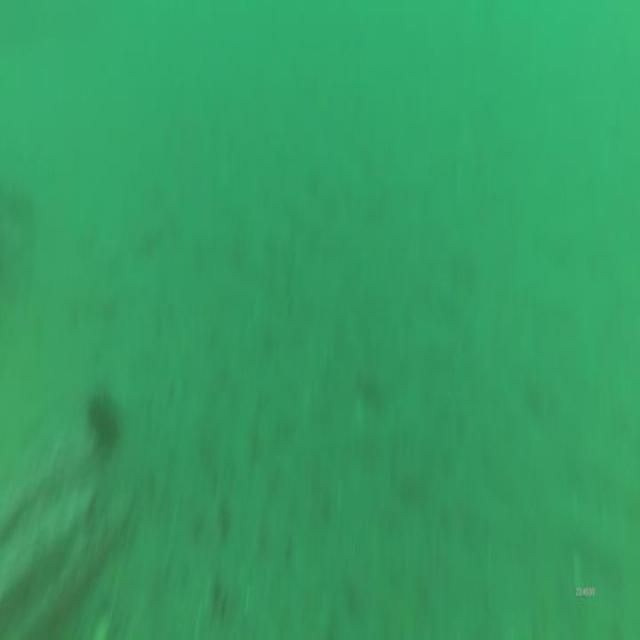echinus: (79, 381, 125, 460)
